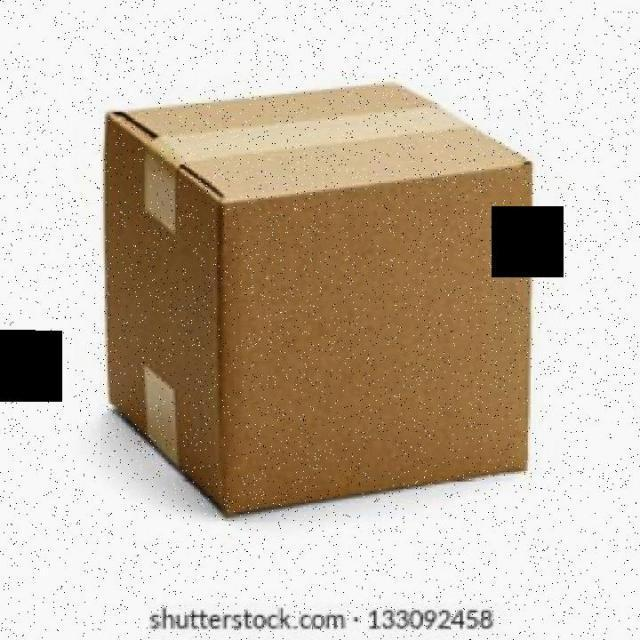box: (100, 86, 542, 523)
